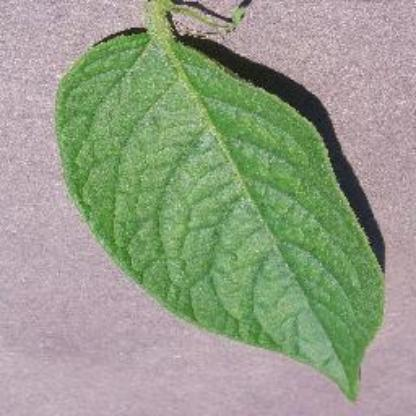Healthy-plant: (40, 13, 406, 406)
